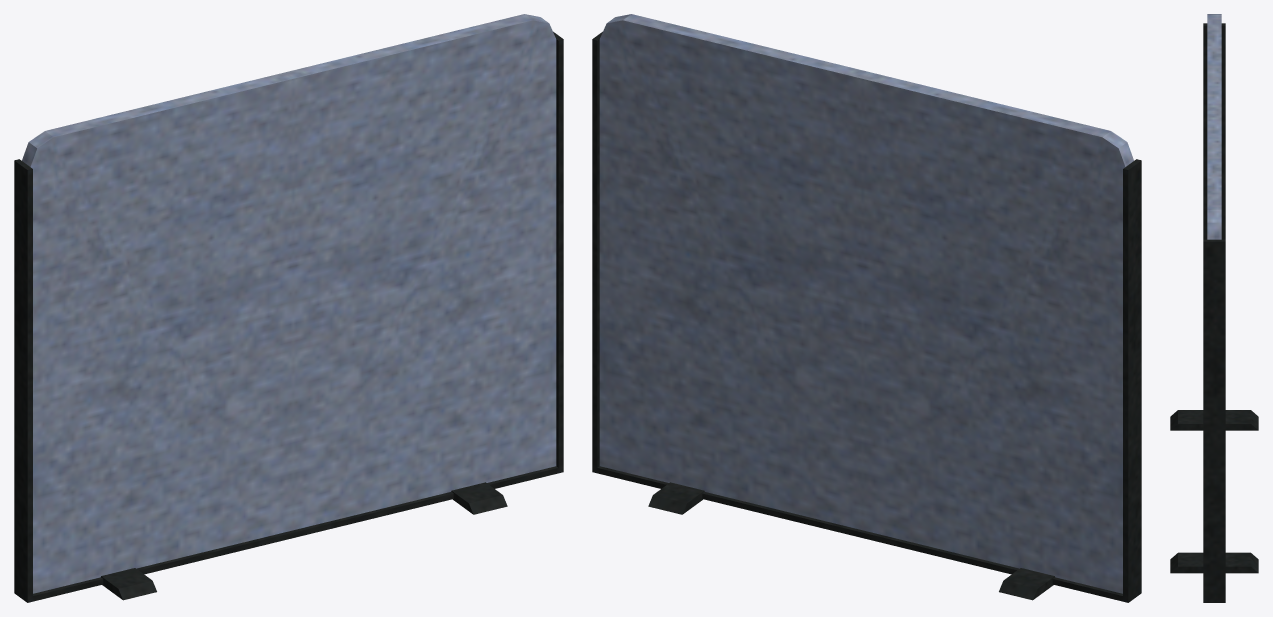
Rendered from divider_black_blue.fbx.
3 renders of one model, left to right at view 1: azimuth 30°, elevation 25°; view 2: azimuth 150°, elevation 25°; view 3: azimuth 270°, elevation 25°, orthographic. The views are drawn at different scales.
Visible parts, largest first — view 1: divider_black_blue; view 2: divider_black_blue; view 3: divider_black_blue.
Boxes of the visible parts, box(x1,y1,x2,y2) form: divider_black_blue: box(14, 14, 563, 602); divider_black_blue: box(592, 14, 1141, 602); divider_black_blue: box(1170, 14, 1258, 602).
Bounding box in the file's own units: 306 × 250 × 52.3.
Materials: 1 (1 with a texture image).
